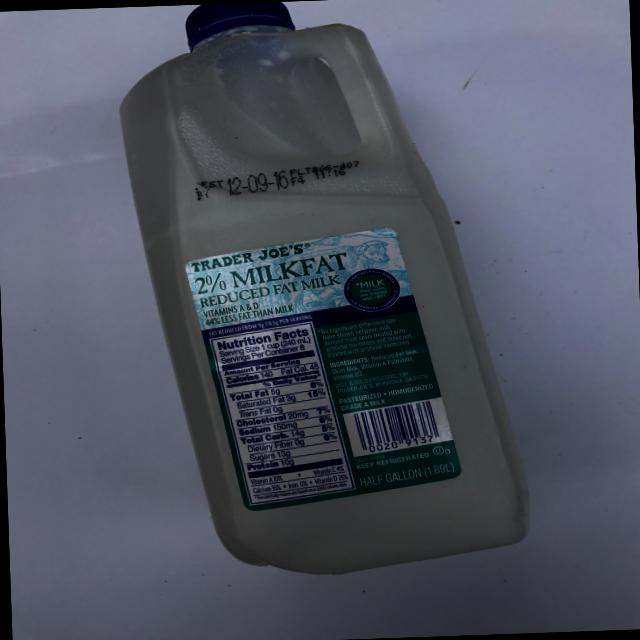Plastic: (110, 0, 547, 593)
